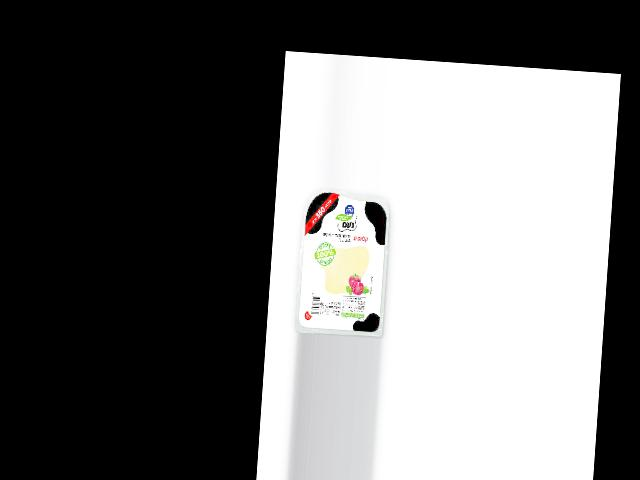cheese: (294, 185, 392, 338)
